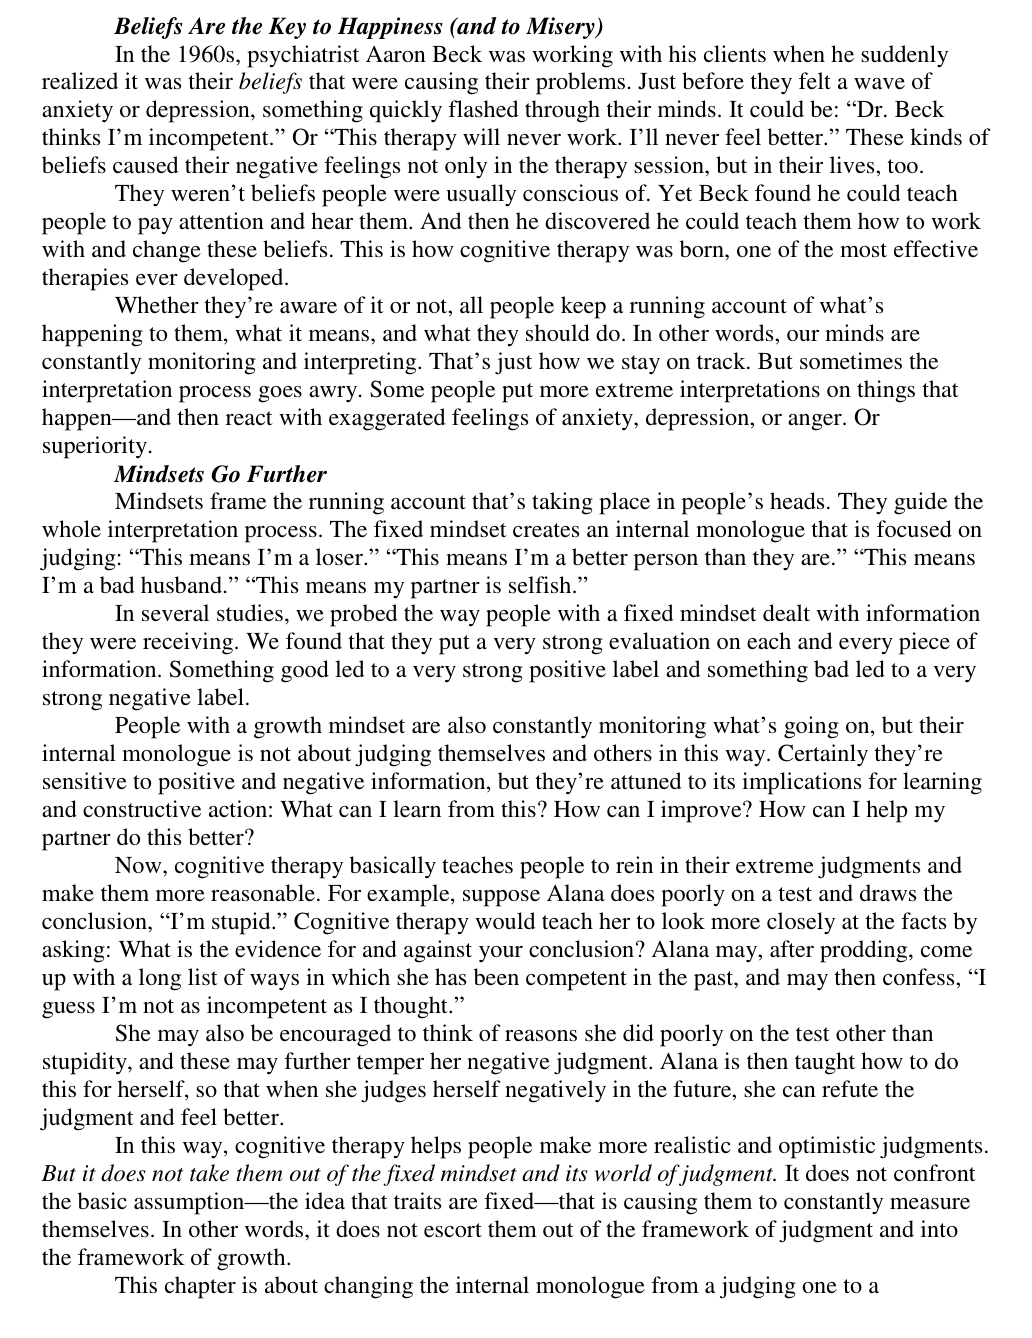latin: (24, 1021, 986, 1304), (25, 183, 980, 459), (28, 602, 984, 850), (37, 850, 993, 1018), (36, 41, 995, 175), (38, 484, 986, 602), (113, 10, 603, 41), (112, 462, 331, 485)
